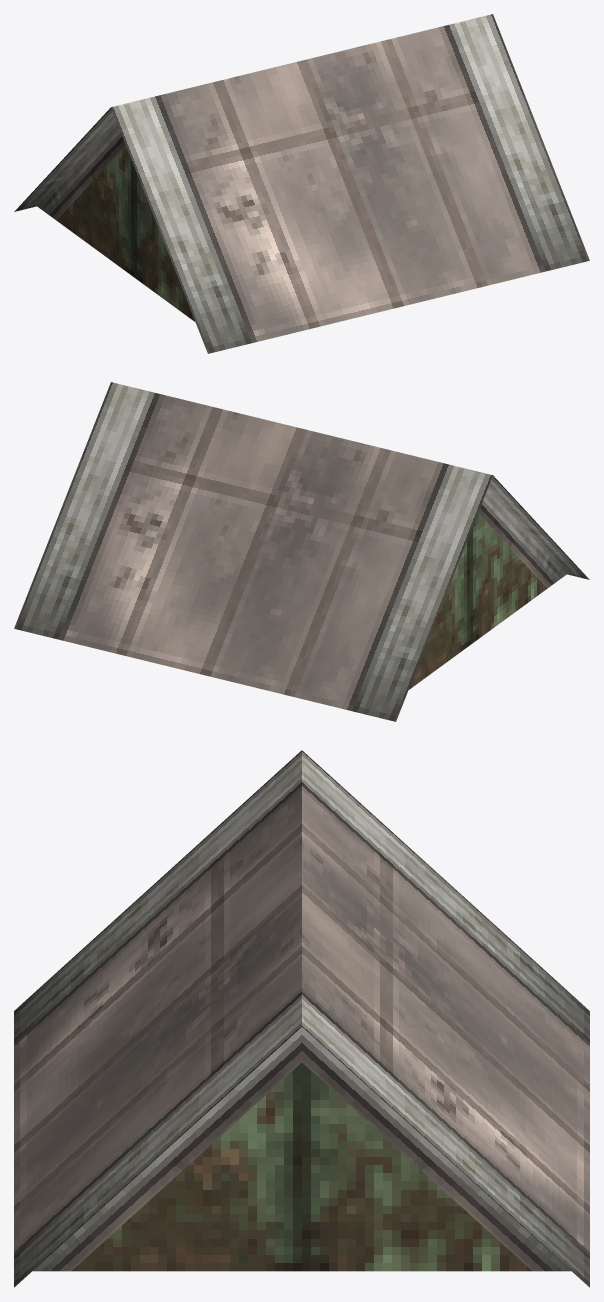
Rendered from wallB_roofDetailed.fbx.
3 renders of one model, top to bottom at view 1: azimuth 30°, elevation 25°; view 2: azimuth 150°, elevation 25°; view 3: azimuth 270°, elevation 25°, orthographic. The views are drawn at different scales.
Visible parts, largest first — view 1: wallB_roofDetailed; view 2: wallB_roofDetailed; view 3: wallB_roofDetailed.
Boxes of the visible parts, x1,y1,x2,y2 form: wallB_roofDetailed: (14,14,589,353); wallB_roofDetailed: (14,382,589,721); wallB_roofDetailed: (14,750,589,1287).
Bounding box in the file's own units: 11.37 × 5 × 10.
